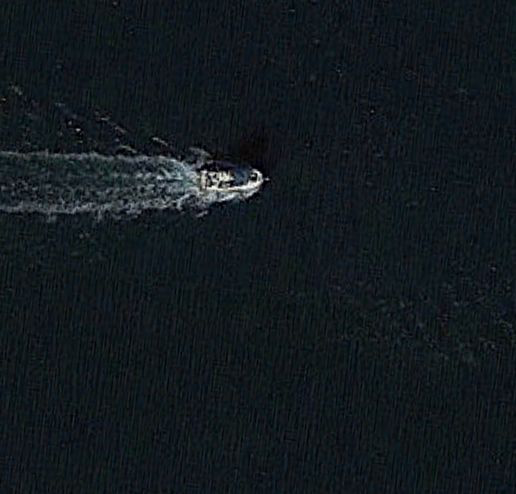boat: (196, 164, 268, 196)
